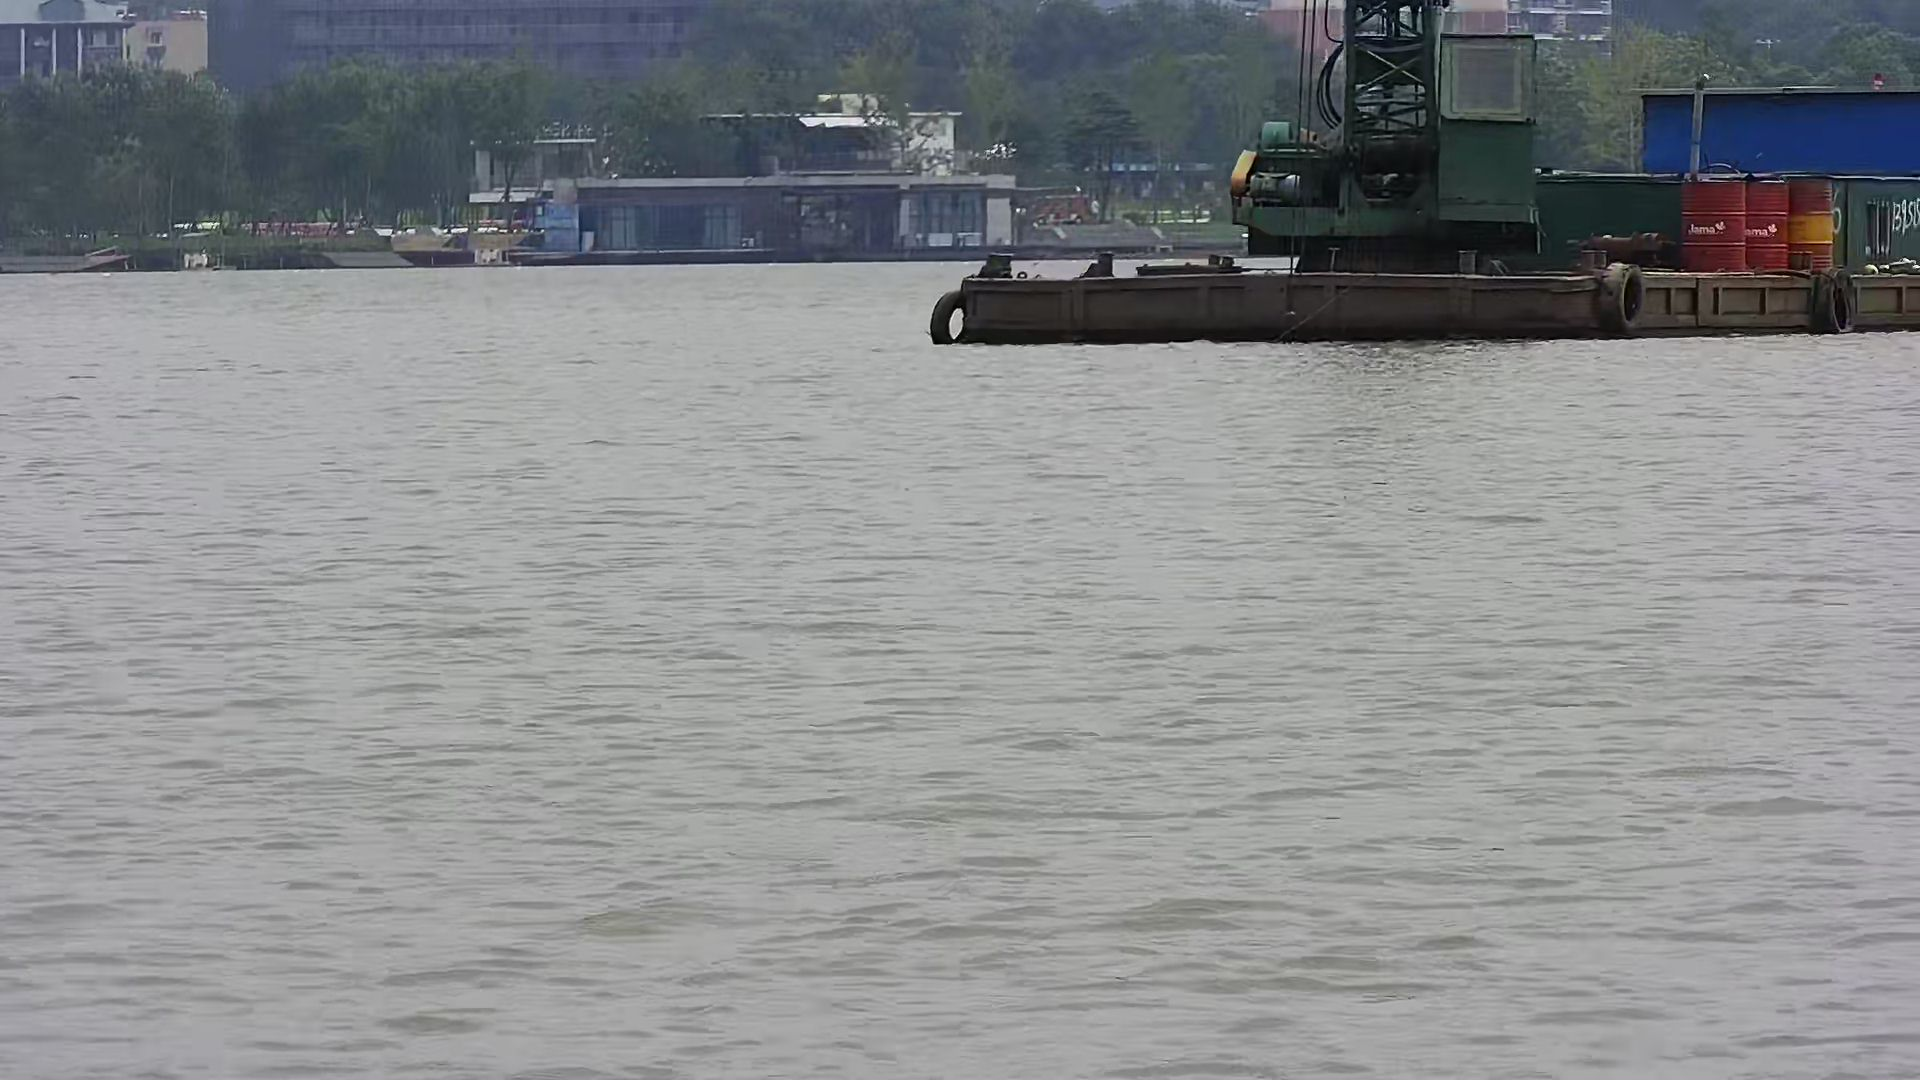ship: (889, 1, 1916, 345)
